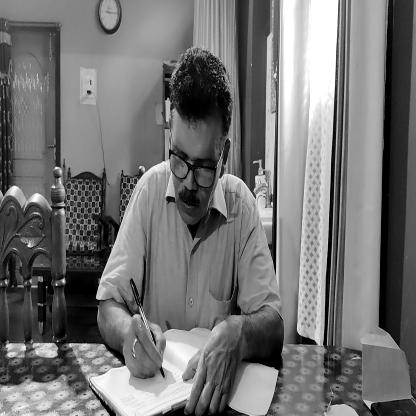Distracted: (162, 48, 228, 226)
